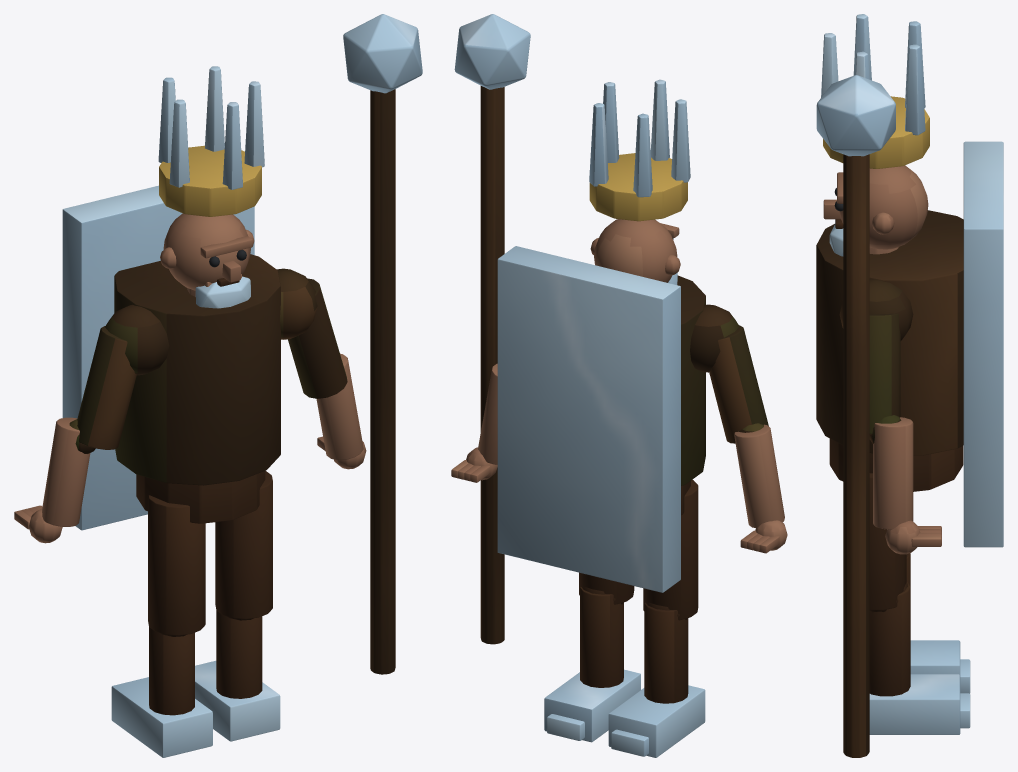
Rendered from unit_outcast_exiled_heir.fbx.
3 renders of one model, left to right at view 1: azimuth 30°, elevation 25°; view 2: azimuth 150°, elevation 25°; view 3: azimuth 270°, elevation 25°, orthographic. The views are drawn at different scales.
Parts seen in each view (by area): view 1: unit_outcast_exiled_heir; view 2: unit_outcast_exiled_heir; view 3: unit_outcast_exiled_heir.
Part boxes in pixels (x1,y1,x2,y2): unit_outcast_exiled_heir: [14, 14, 422, 757]; unit_outcast_exiled_heir: [451, 14, 787, 757]; unit_outcast_exiled_heir: [816, 14, 1003, 757].
Size of the model in its own units: 1.3 by 2.35 by 0.56.
